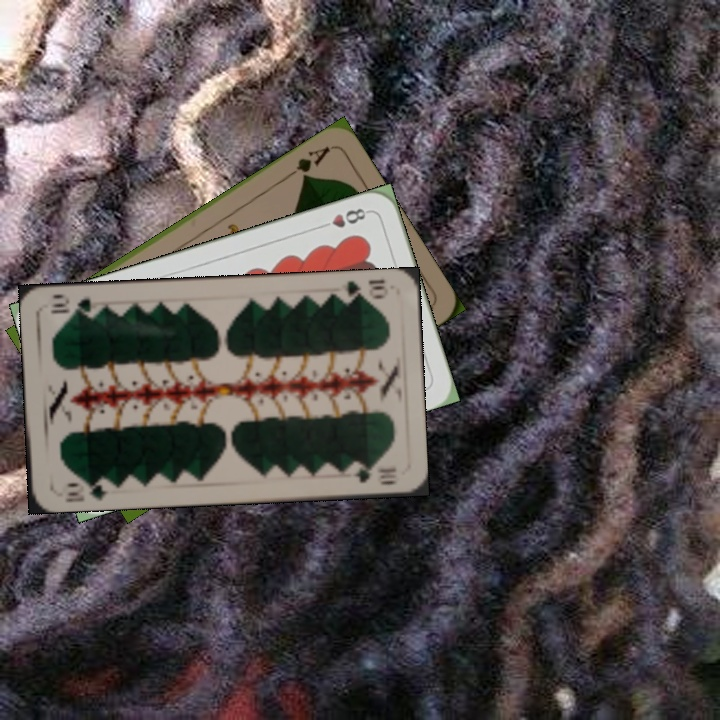G10: (334, 276, 390, 305), (61, 475, 112, 503)
GA: (281, 142, 333, 182)
H8: (315, 204, 372, 232)
